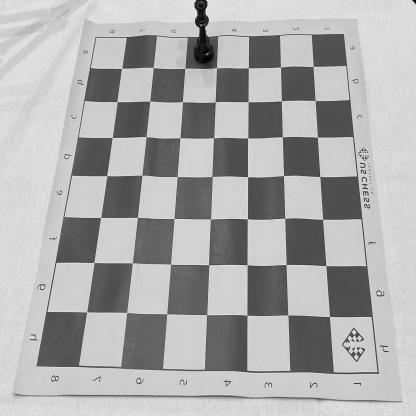black-queen: (192, 0, 214, 65)
